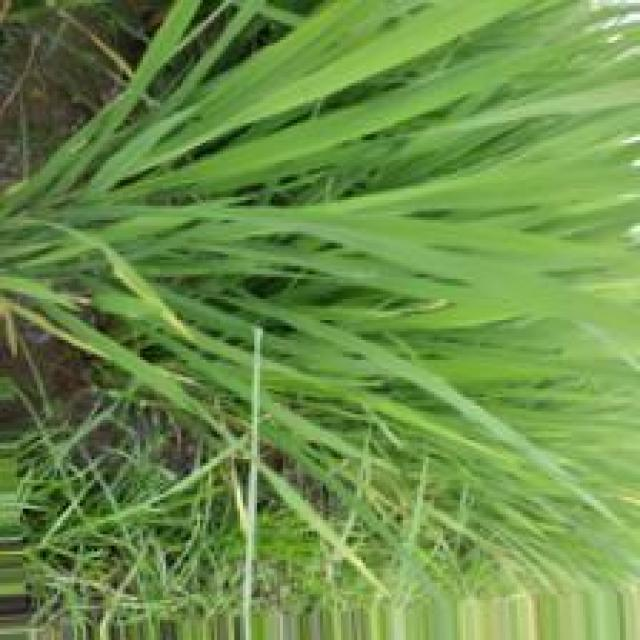HealthyLeaf: (227, 107, 372, 173), (353, 12, 459, 69), (428, 226, 523, 249)
